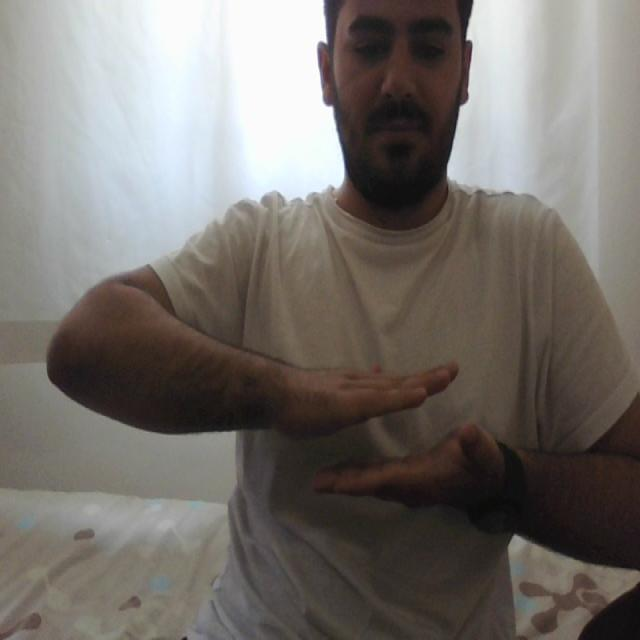Arkadas: (166, 324, 593, 518)
